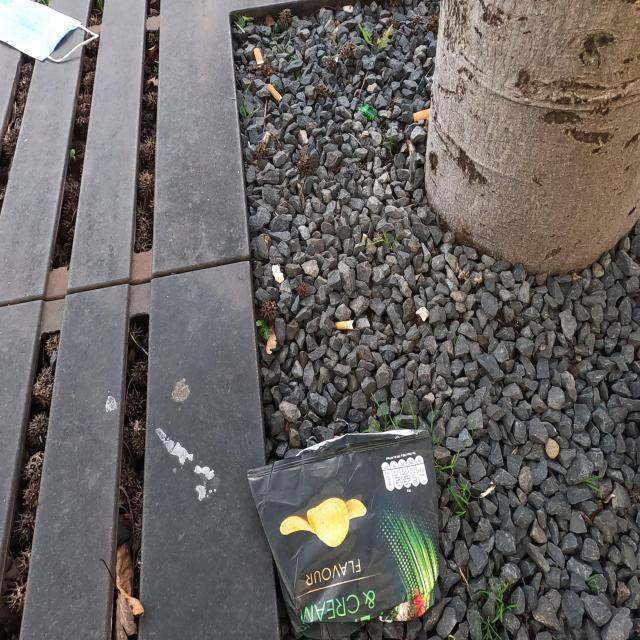Mask: (1, 1, 100, 66)
